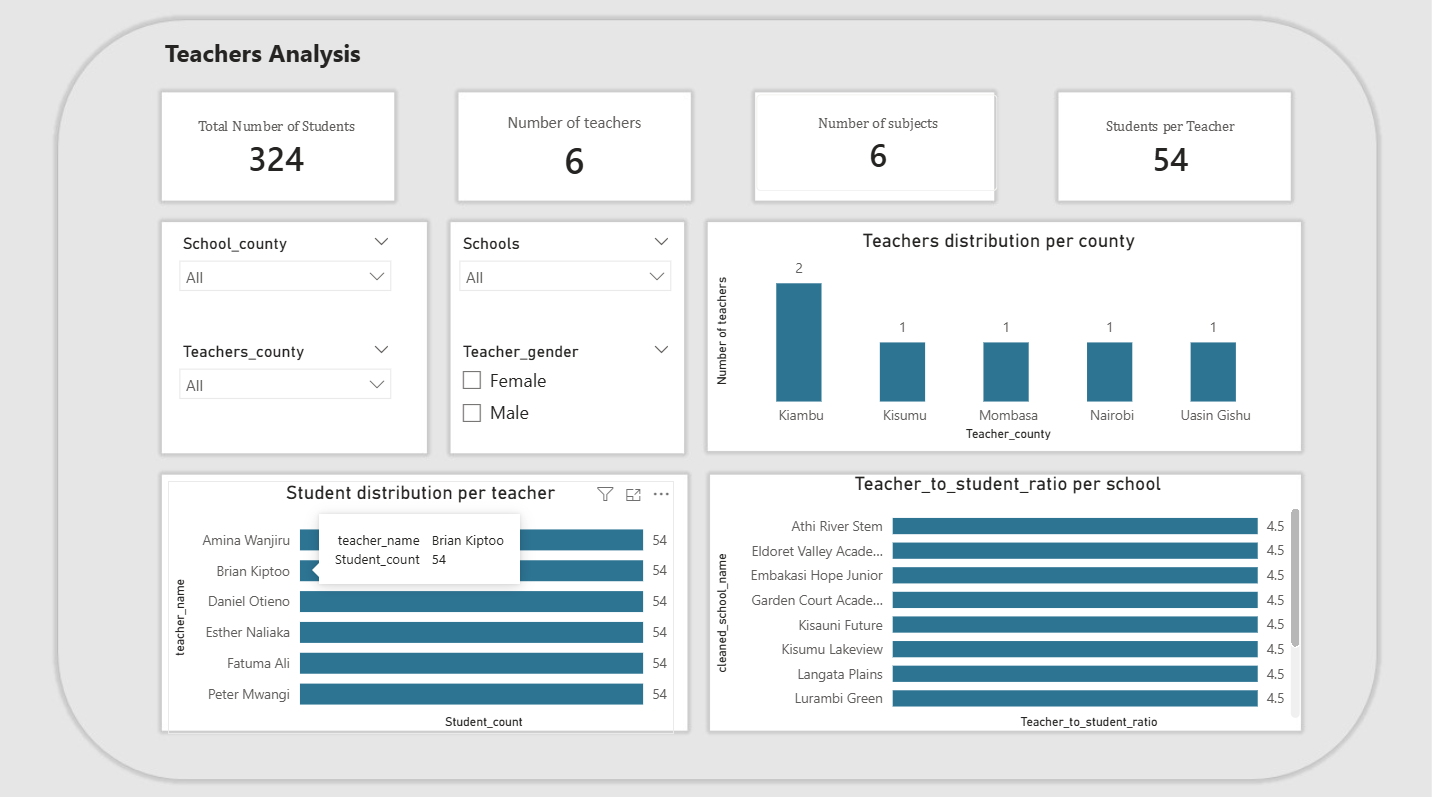

Layout of this report page (visuals, bound fields, positions):
{"tool":"powerbi","page":{"name":"Teacher analysis","canvas":[1280,720],"ordinal":1},"visuals":[{"type":"cardVisual","fields":{"Data":["Count(Dim_teacher.teacher_id)"]},"box":[416,88,208,96],"z":0},{"type":"slicer","fields":{"Values":["Dim_school.Cleaned_school_county"]},"box":[160,208,208,64],"z":1000},{"type":"slicer","fields":{"Values":["Dim_school.cleaned_school_name"]},"box":[408,208,208,56],"z":2000},{"type":"clusteredBarChart","title":"Student distribution per teacher","fields":{"Category":["Dim_teacher.teacher_name"],"Y":["Dim_school.Student_count"]},"box":[160,432,448,224],"z":3000},{"type":"clusteredBarChart","title":"Teacher_to_student_ratio per school","fields":{"Category":["Dim_school.cleaned_school_name"],"Y":["Dim_school.Teacher_to_student_ratio"]},"box":[640,424,528,232],"z":4000},{"type":"clusteredColumnChart","title":"Teachers distribution per county","fields":{"Category":["Dim_teacher.cleaned_teacher_county"],"Y":["CountNonNull(Dim_teacher.teacher_id)"]},"box":[640,208,512,192],"z":5000},{"type":"cardVisual","fields":{"Data":["Dim_school.Student_count"]},"box":[152,88,208,96],"z":6000},{"type":"cardVisual","fields":{"Data":["Dim_school.Teacher_to_school"]},"box":[944,80,208,112],"z":7000},{"type":"slicer","fields":{"Values":["Dim_teacher.cleaned_teacher_county"]},"box":[160,304,208,88],"z":8000},{"type":"slicer","fields":{"Values":["Dim_teacher.cleaned_teacher_gender"]},"box":[408,304,208,104],"z":9000},{"type":"cardVisual","fields":{"Data":["CountNonNull(Dim_teacher.cleaned_teacher_speciality)"]},"box":[664,72,248,120],"z":10000},{"type":"textbox","box":[152,32,352,56],"z":11000}]}

Visuals, with their boxes in screenshot pixels (x1, y1, x2, y2), scaled from the page's 1280x720 canvas onto the 1432x797 screenshot:
cardVisual - Count(Dim_teacher.teacher_id): select_region(465, 97, 698, 204)
slicer - Dim_school.Cleaned_school_county: select_region(179, 230, 412, 301)
slicer - Dim_school.cleaned_school_name: select_region(456, 230, 689, 292)
"Student distribution per teacher" clusteredBarChart: select_region(179, 478, 680, 726)
"Teacher_to_student_ratio per school" clusteredBarChart: select_region(716, 469, 1307, 726)
"Teachers distribution per county" clusteredColumnChart: select_region(716, 230, 1289, 443)
cardVisual - Dim_school.Student_count: select_region(170, 97, 403, 204)
cardVisual - Dim_school.Teacher_to_school: select_region(1056, 89, 1289, 213)
slicer - Dim_teacher.cleaned_teacher_county: select_region(179, 337, 412, 434)
slicer - Dim_teacher.cleaned_teacher_gender: select_region(456, 337, 689, 452)
cardVisual - CountNonNull(Dim_teacher.cleaned_teacher_speciality): select_region(743, 80, 1020, 213)
textbox: select_region(170, 35, 564, 97)
